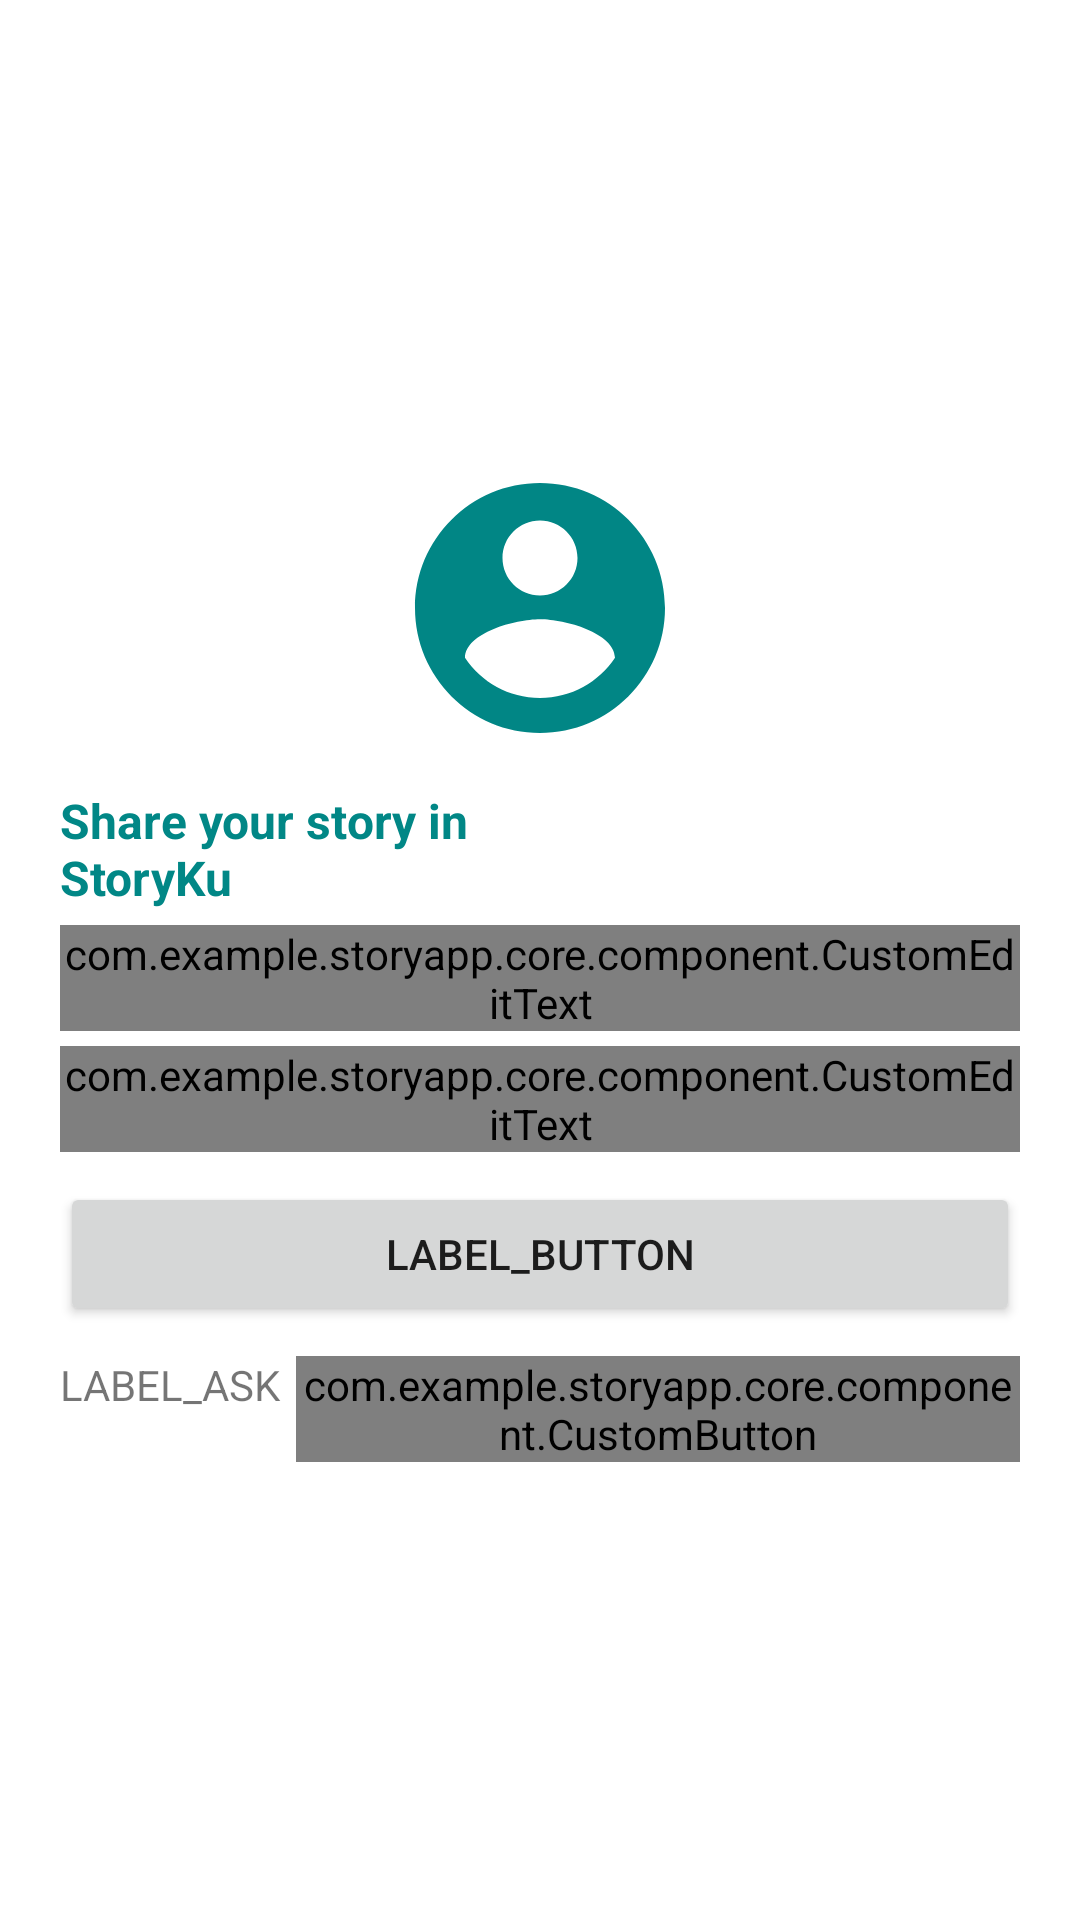

Screen size 1080w x 1920h. Icon name, then its center in pixels as (x,y):
icon user: (540,608)
